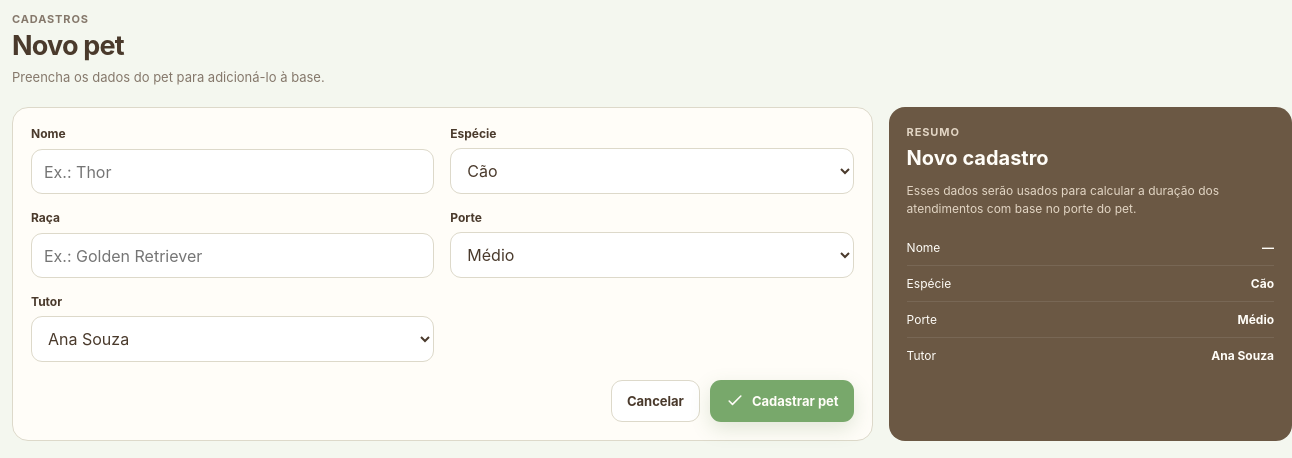
Scenario: UI | NovoPetForm › deve atualizar o card de resumo em tempo real conforme o usuário digita
Check: the element with class "summary-row" shows "—", box [1262,240,1274,255]
Type "Thor" into the field labelled "Nome" at (233, 172), box [31,149,434,194]
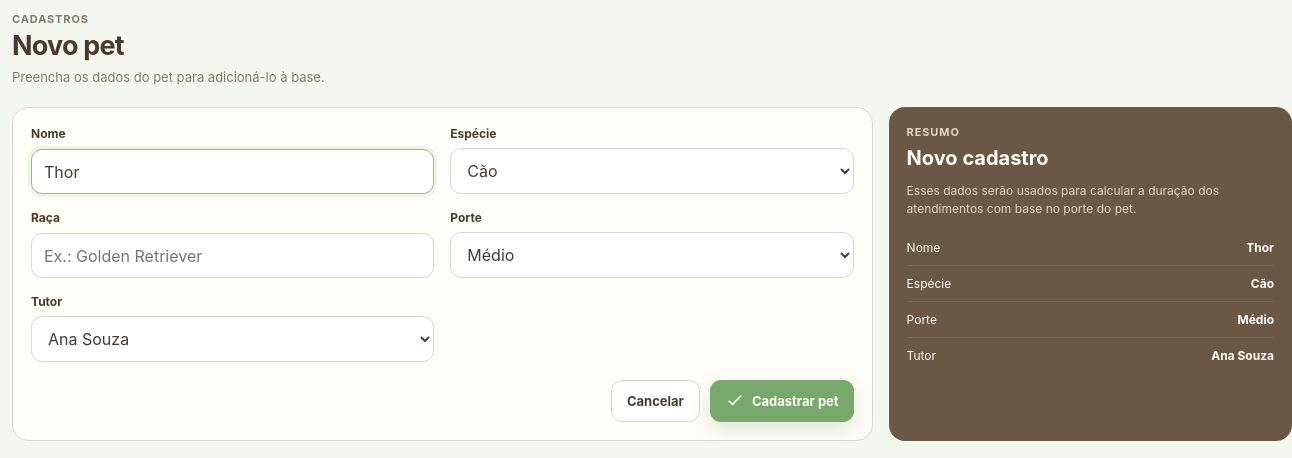
Check: the element with class "summary-row" shows "Thor", box [1246,240,1274,255]
